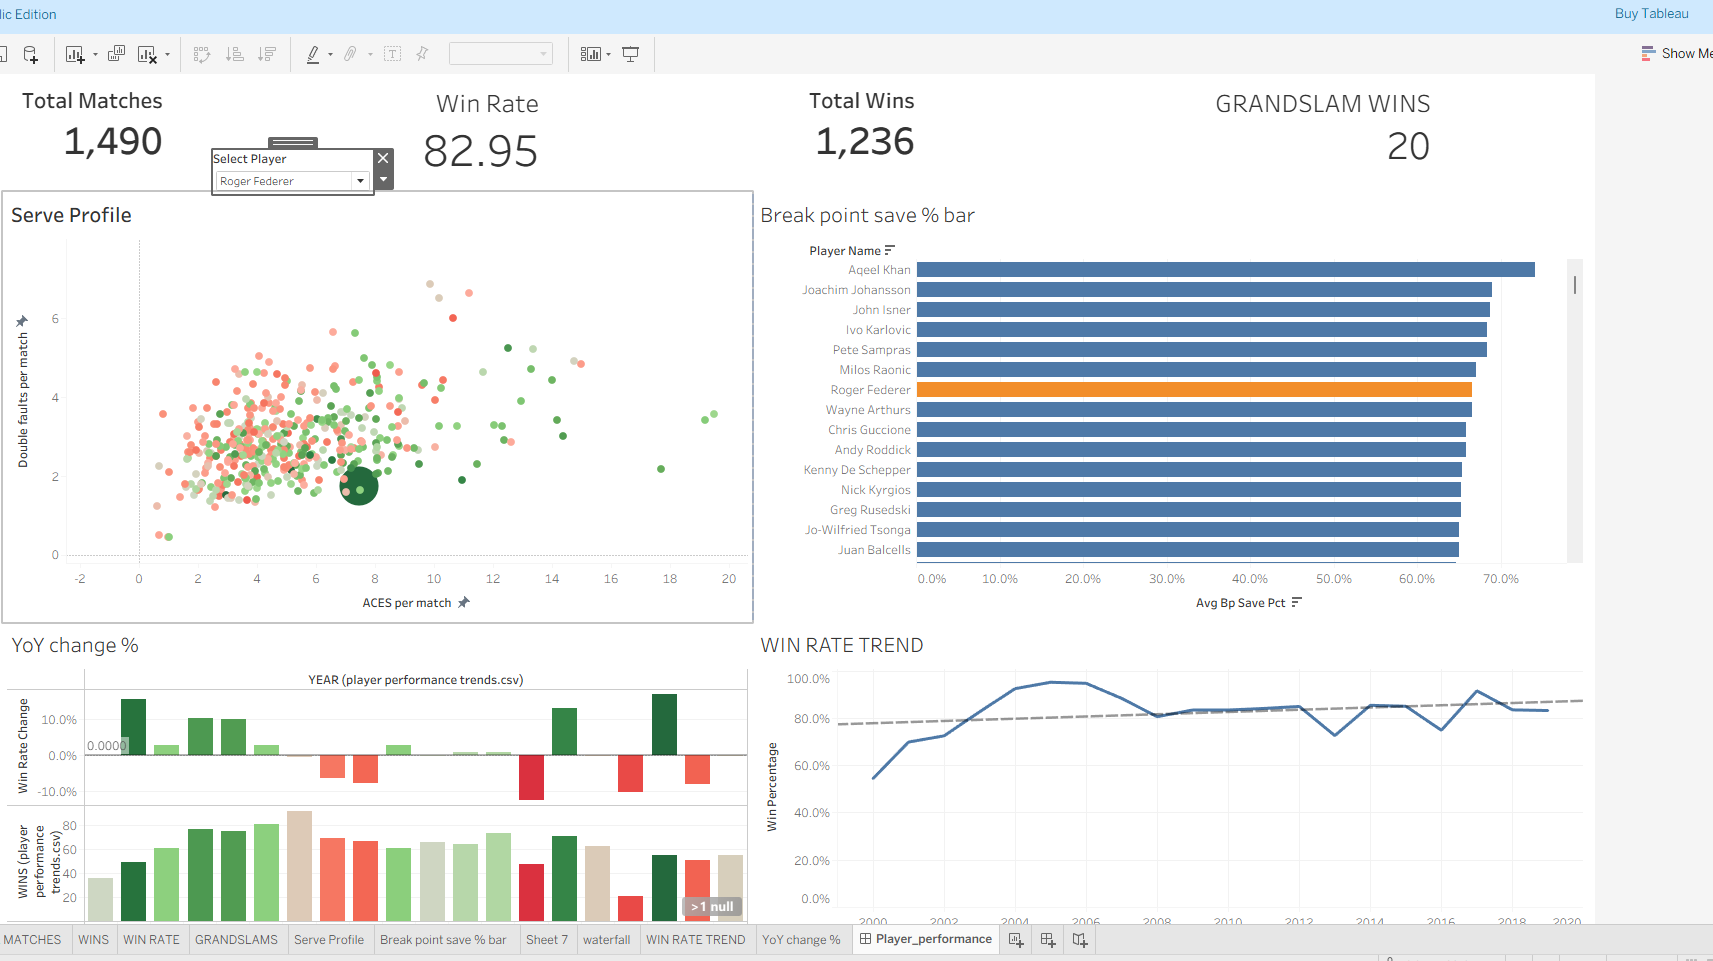

The page's visual inventory and layout, read from the dashboard file:
{"tool":"tableau","page":{"name":"Dashboard 1","canvas":[1600,900],"ordinal":0},"visuals":[{"type":"worksheet","title":"TOTAL MATCHES","mark":"Automatic","box":[8,8,396,197]},{"type":"worksheet","title":"WIN RATE","mark":"Automatic","box":[404,8,396,197]},{"type":"worksheet","title":"WINS","mark":"Automatic","box":[800,8,396,197]},{"type":"worksheet","title":"GRANDSLAMS","mark":"Automatic","box":[1196,8,396,197]},{"type":"parameter","param":"[Parameters].[Parameter 1]","box":[1441,8,160,44]},{"type":"worksheet","title":"Serve Profile","mark":"Automatic","rows":["Calculation_1452129447008927746"],"cols":["Calculation_1452129447008636929"],"box":[8,205,749,395]},{"type":"worksheet","title":"Break point save % bar","mark":"Bar","rows":["PLAYER_NAME"],"cols":["AVG_BP_SAVE_PCT"],"box":[757,205,835,395]},{"type":"worksheet","title":"YoY change %","mark":"Bar","rows":["WIN_RATE_CHANGE","WINS (player_performance_trends.csv)"],"cols":["YEAR (player_performance_trends.csv)"],"box":[8,600,978,292]},{"type":"worksheet","title":"WIN RATE TREND","mark":"Line","rows":["WIN_PERCENTAGE"],"cols":["YEAR"],"box":[986,600,606,292]}]}

Visuals, with their boxes on the page's 1600x900 design canvas (x1, y1, x2, y2). These are canvas units, not pixel positions in the 1713x961 screenshot, which may show the page scaled, cropped or inside an application window:
"TOTAL MATCHES" worksheet: 8:8:404:205
"WIN RATE" worksheet: 404:8:800:205
"WINS" worksheet: 800:8:1196:205
"GRANDSLAMS" worksheet: 1196:8:1592:205
parameter: 1441:8:1601:52
"Serve Profile" worksheet: 8:205:757:600
"Break point save % bar" worksheet (Bar marks): 757:205:1592:600
"YoY change %" worksheet (Bar marks): 8:600:986:892
"WIN RATE TREND" worksheet (Line marks): 986:600:1592:892
